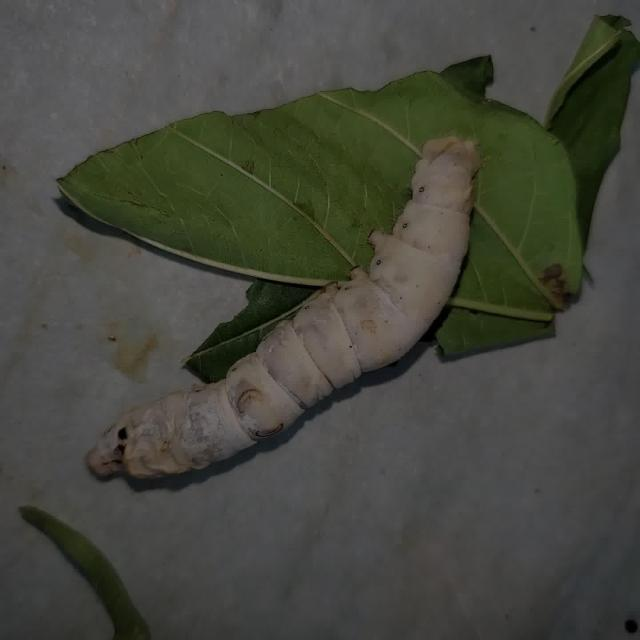Grasserie: (57, 114, 534, 508)
